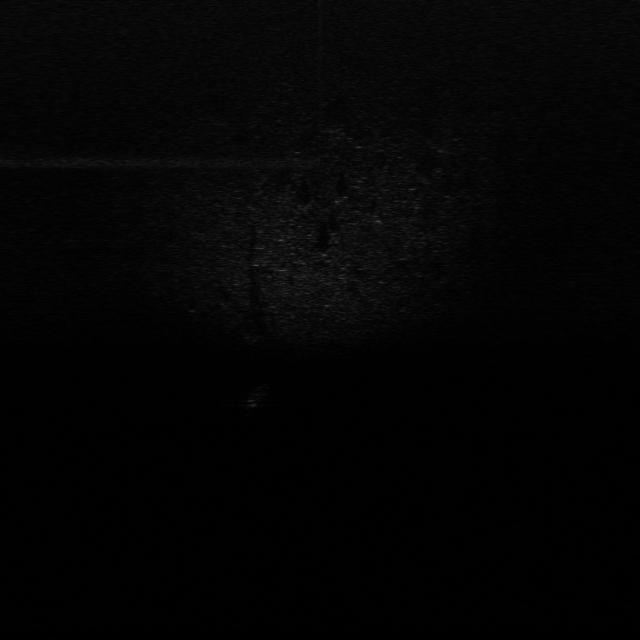human body: (240, 381, 278, 418)
